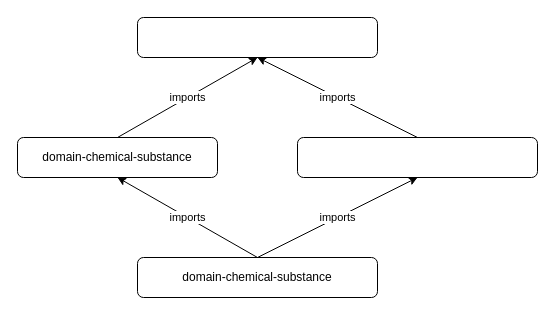
Some shapes in this 555 by 315 pixel diagram are drawn without their labels. Each missing label, with the box of its shape:
domain-characterisation-methodology: (296, 136, 538, 178)
EMMO: (136, 16, 378, 58)
